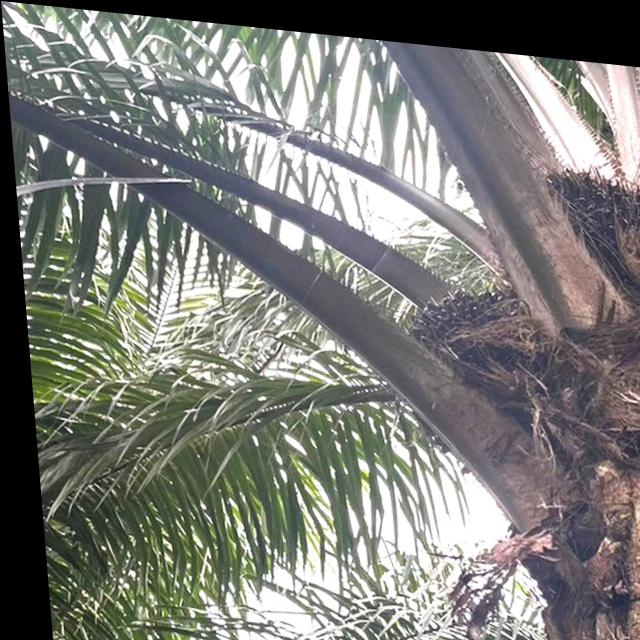almost: (386, 266, 546, 426)
